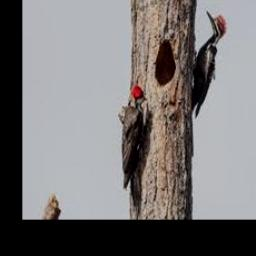Woodpecker: (191, 9, 227, 117), (121, 85, 148, 219)
